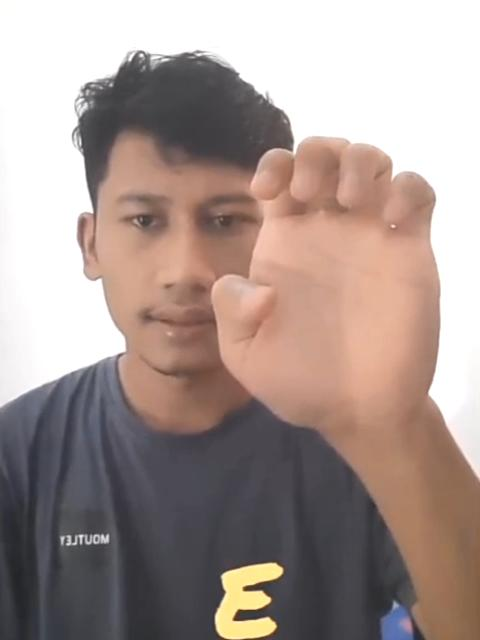E: (211, 128, 444, 432)
